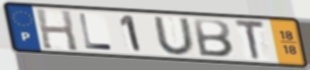1: (117, 14, 143, 54)
B: (192, 17, 236, 59)
H: (34, 7, 81, 53)
L: (77, 12, 116, 52)
T: (233, 19, 267, 62)
U: (151, 16, 198, 57)
